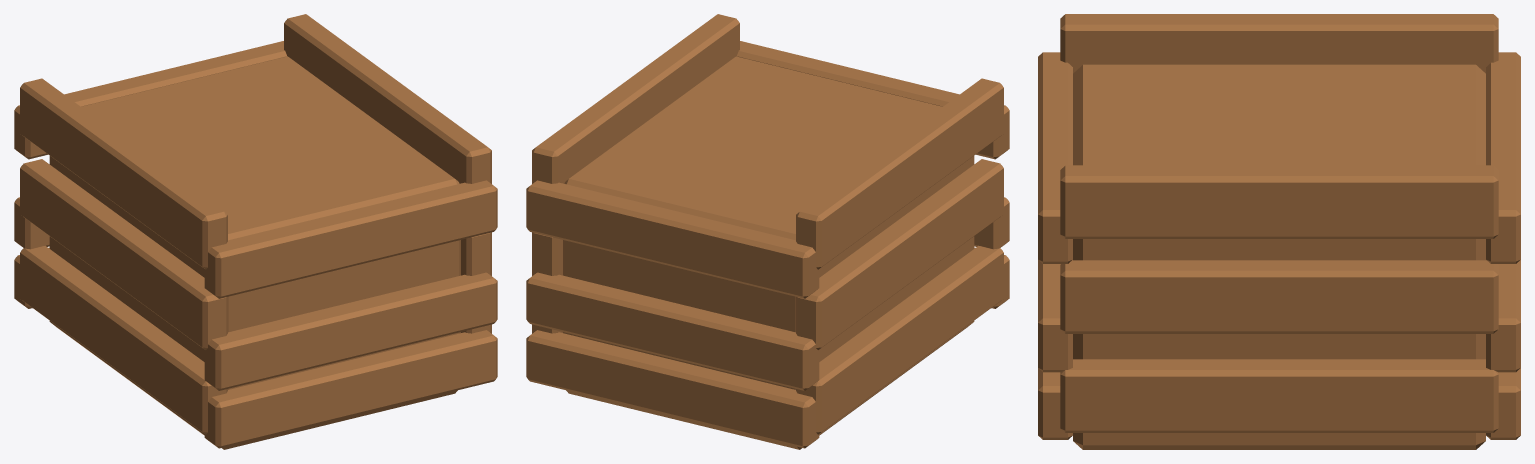
Rendered from SM_Menu_ScrollCrate.fbx.
The picture shows the model from 3 angles, left to right: view 1: azimuth 30°, elevation 25°; view 2: azimuth 150°, elevation 25°; view 3: azimuth 270°, elevation 25°; orthographic projection. The views are drawn at different scales.
Parts seen in each view (by area): view 1: SM_Menu_ScrollCrate; view 2: SM_Menu_ScrollCrate; view 3: SM_Menu_ScrollCrate.
Part boxes in pixels (bbox=[...]): SM_Menu_ScrollCrate: bbox=[14, 14, 497, 449]; SM_Menu_ScrollCrate: bbox=[526, 14, 1009, 449]; SM_Menu_ScrollCrate: bbox=[1038, 14, 1520, 449].
Size of the model in its own units: 79 by 97 by 64.
